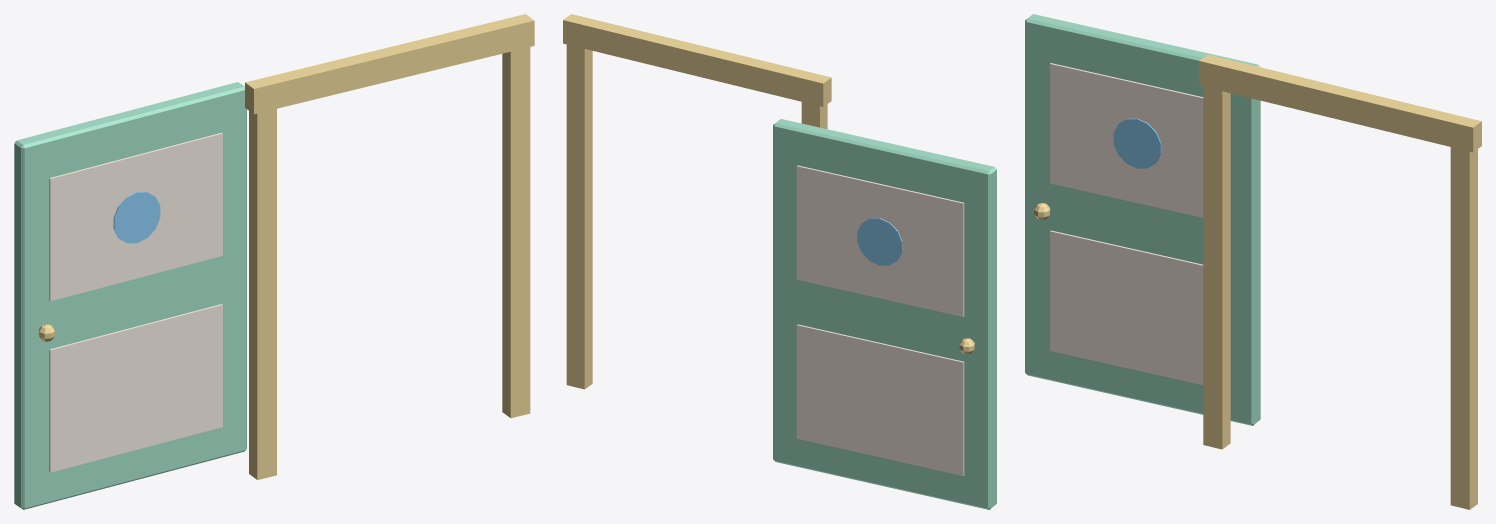
File: CleanACat_Area_BackDoorOpen.fbx
3 views of the same model, side by side, from view 1: azimuth 30°, elevation 25°; view 2: azimuth 150°, elevation 25°; view 3: azimuth 330°, elevation 25° (orthographic). The views are drawn at different scales.
Visible parts, largest first — view 1: CleanACat_Area_BackDoorOpen; view 2: CleanACat_Area_BackDoorOpen; view 3: CleanACat_Area_BackDoorOpen.
Part boxes in pixels (x1,y1,x2,y2): CleanACat_Area_BackDoorOpen: [14, 14, 534, 509]; CleanACat_Area_BackDoorOpen: [563, 14, 996, 509]; CleanACat_Area_BackDoorOpen: [1025, 14, 1481, 509].
Size of the model in its own units: 12.48 by 9.62 by 1.91.
Materials: 1 (1 with a texture image).
